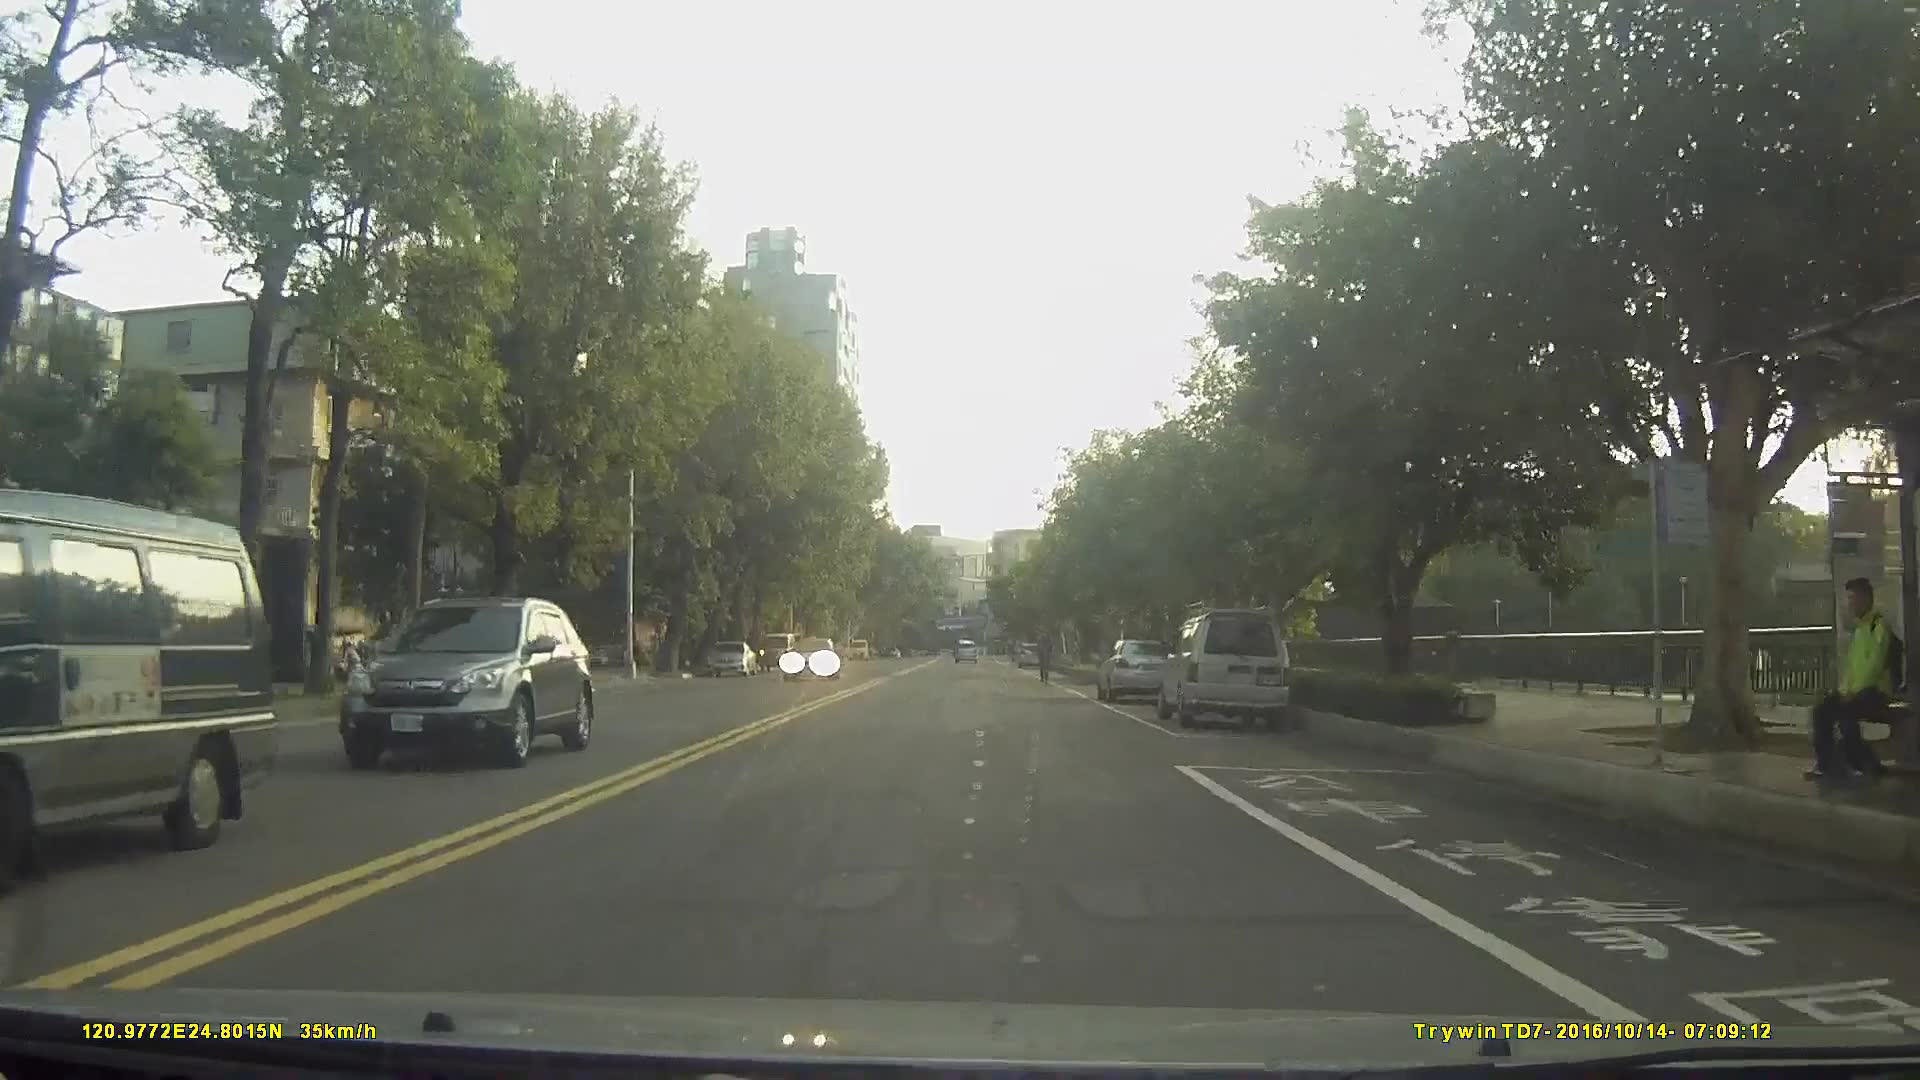pedestrian: (1802, 573, 1914, 794)
rider: (1035, 629, 1055, 687)
vehicle: (0, 483, 281, 892), (334, 593, 595, 768), (1156, 608, 1293, 728), (1097, 633, 1176, 700), (779, 633, 840, 682), (704, 636, 756, 676), (757, 629, 797, 667), (1016, 639, 1044, 668), (951, 635, 978, 661)
